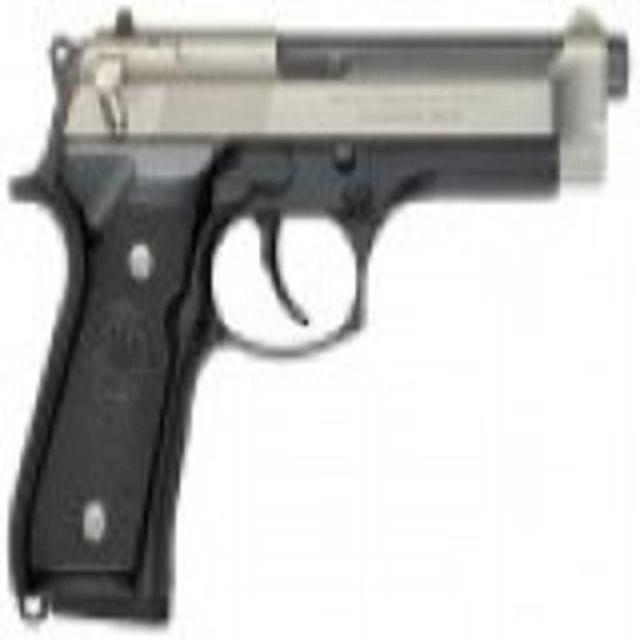pistol: (4, 10, 615, 617)
